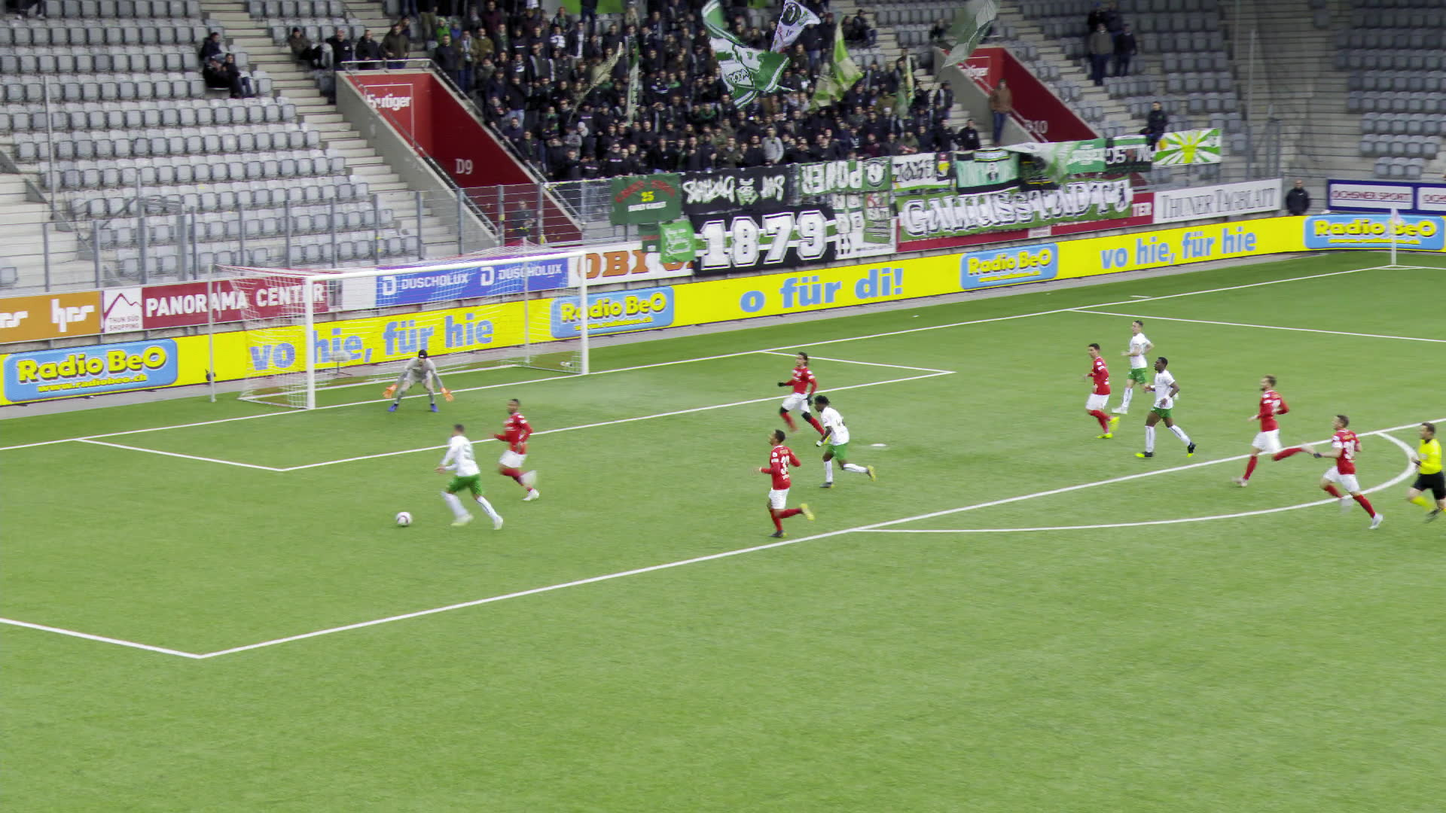ball: (393, 510, 415, 529)
player: (1228, 371, 1322, 488), (435, 421, 508, 535), (488, 394, 560, 507), (1314, 412, 1382, 529), (752, 424, 817, 544), (808, 391, 880, 495), (1109, 314, 1178, 422), (1133, 352, 1196, 463), (770, 349, 837, 447), (379, 345, 453, 419), (1077, 340, 1130, 441)
referee: (1410, 419, 1445, 536)
